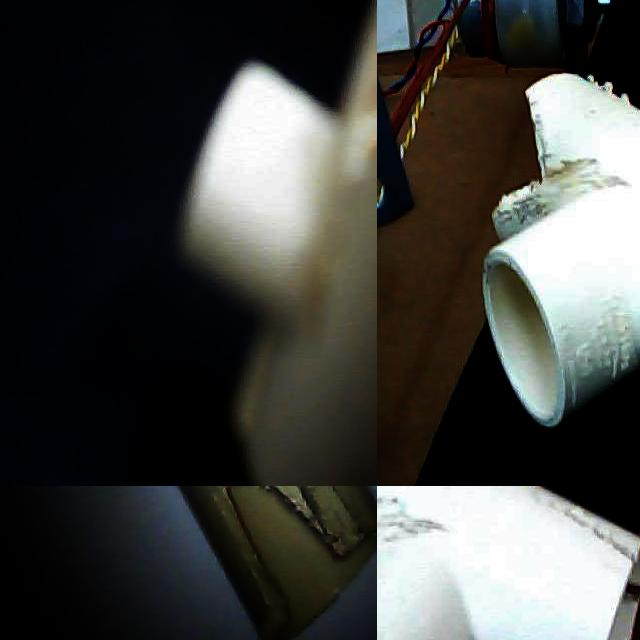Defective: (494, 89, 633, 248), (208, 486, 347, 615), (503, 486, 640, 598), (429, 599, 603, 640), (292, 486, 332, 549)
T Joint: (481, 72, 640, 431), (377, 486, 640, 640), (179, 486, 377, 640)
